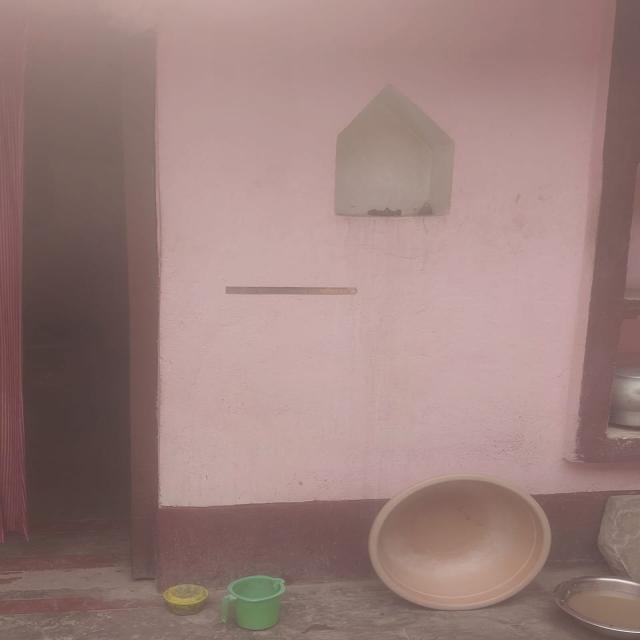scale: (224, 286, 358, 295)
